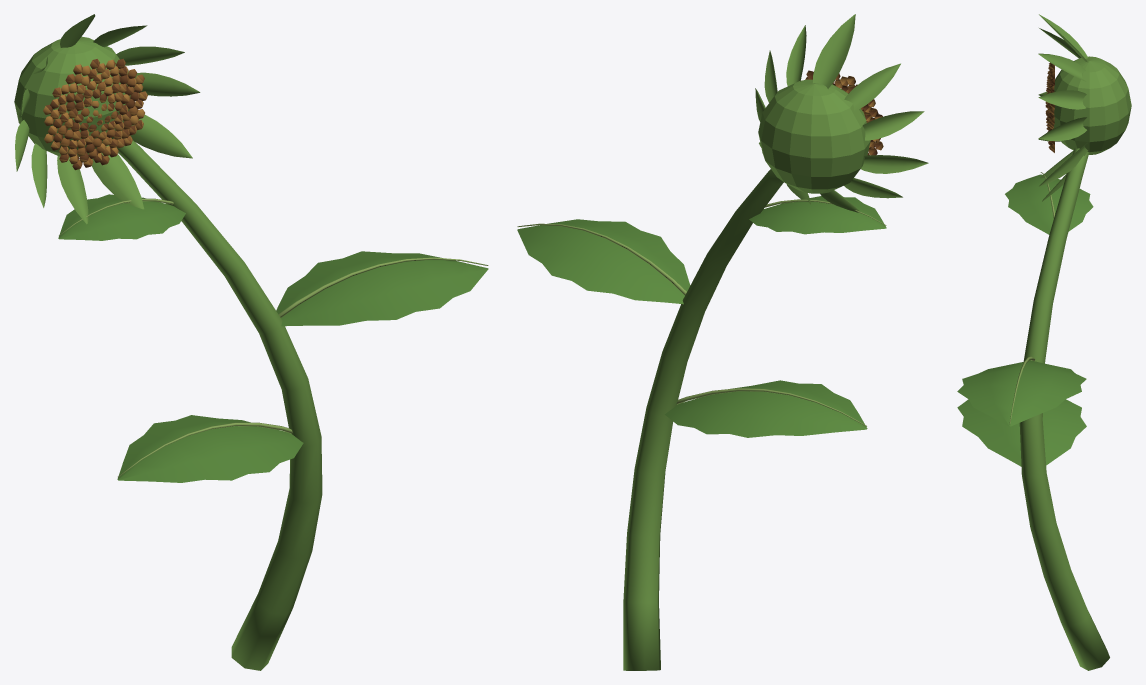
Rendered from sunflower-test-bud-1.glb.
3 renders of one model, left to right at view 1: azimuth 30°, elevation 25°; view 2: azimuth 150°, elevation 25°; view 3: azimuth 270°, elevation 25°, orthographic. The views are drawn at different scales.
Parts seen in each view (by area): view 1: Curved tapered stem; view 2: Curved tapered stem; view 3: Curved tapered stem.
Part boxes in pixels (bbox=[...]): Curved tapered stem: bbox=[14, 14, 488, 670]; Curved tapered stem: bbox=[517, 14, 928, 670]; Curved tapered stem: bbox=[957, 14, 1131, 670].
Size of the model in its own units: 0.2287 by 0.3483 by 0.0954.
